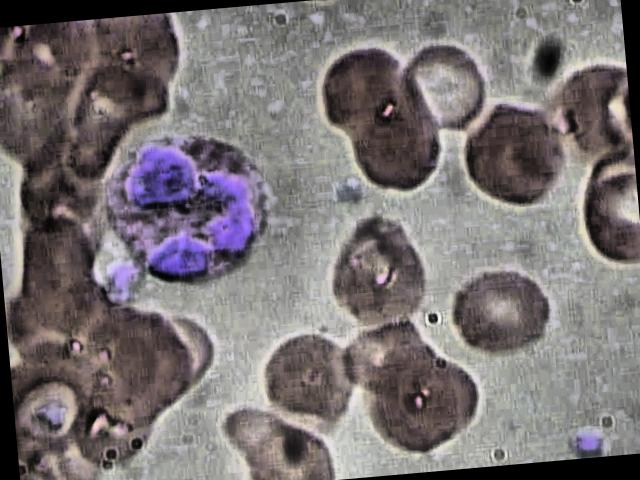Platelets: (102, 256, 148, 304), (567, 416, 612, 460)
RBC: (355, 343, 492, 462), (319, 204, 438, 336), (453, 96, 575, 214), (254, 326, 366, 435), (442, 259, 561, 361), (396, 29, 498, 140), (214, 394, 337, 480), (348, 98, 457, 194), (306, 32, 414, 128)
WBC: (96, 119, 282, 292)
